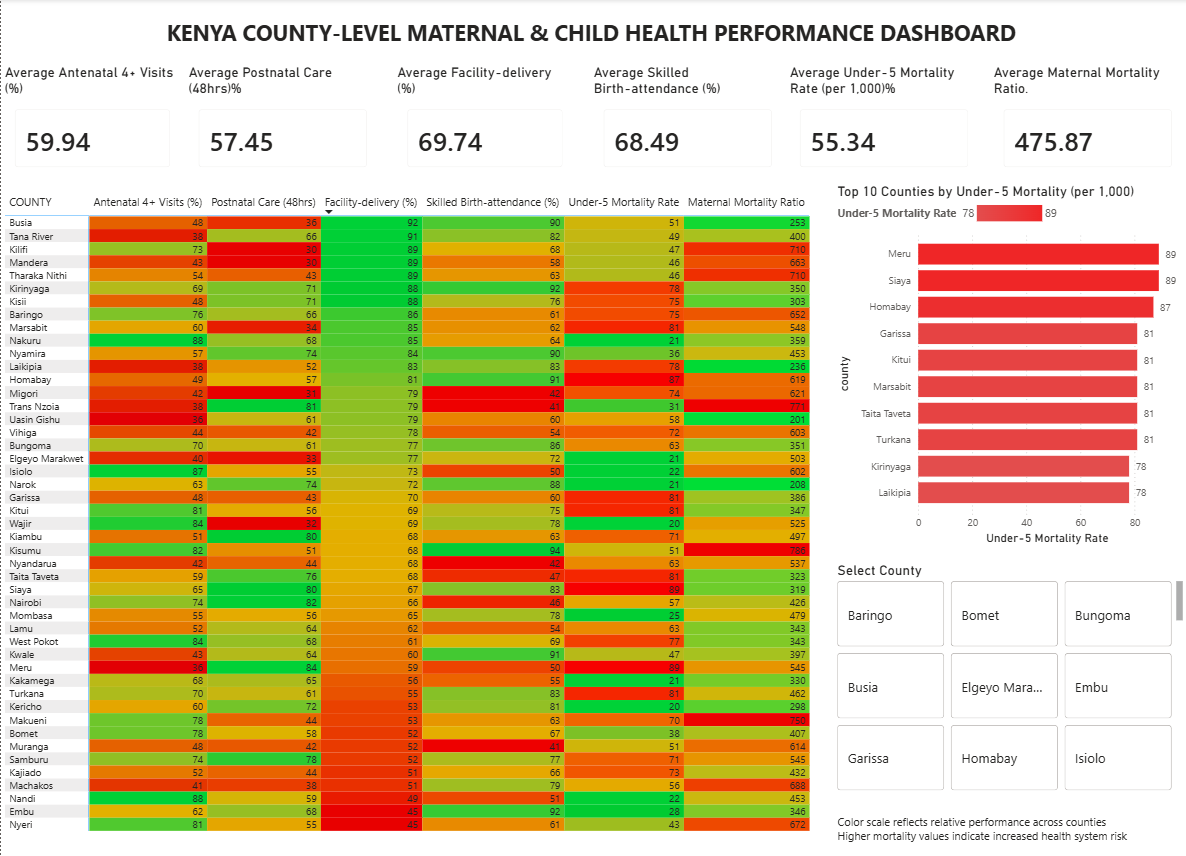

The dashboard page shown, as its layout file describes it:
{"tool":"powerbi","page":{"name":"MCH County Dashboard","canvas":[1450,1050],"ordinal":0},"visuals":[{"type":"pivotTable","fields":{"Rows":["mch_county_cleaned.county"],"Values":["Sum(mch_county_cleaned.antenatal_4_visits_pct)","Sum(mch_county_cleaned.postnatal_care_48_hours)","Sum(mch_county_cleaned.facility_delivery_pct)","Sum(mch_county_cleaned.skilled_birth_attendance_pct)","Sum(mch_county_cleaned.under_5_mortality_rate)","Sum(mch_county_cleaned.maternal_mortality_ratio)"]},"box":[0,234,1008,816],"z":0},{"type":"cardVisual","title":"Average Antenatal 4+ Visits (%)","fields":{"Data":["Avg(mch_county_cleaned.antenatal_4_visits_pct)"]},"box":[0,80,224,144],"z":1},{"type":"cardVisual","title":"Average Postnatal Care (48hrs)%","fields":{"Data":["Avg(mch_county_cleaned.postnatal_care_48_hours)"]},"box":[224,80,240,144],"z":2},{"type":"cardVisual","title":"Average Facility-delivery (%)","fields":{"Data":["Avg(mch_county_cleaned.facility_delivery_pct)"]},"box":[480,80,224,144],"z":3},{"type":"cardVisual","title":"Average Skilled Birth-attendance (%)","fields":{"Data":["Avg(mch_county_cleaned.skilled_birth_attendance_pct)"]},"box":[720,80,240,144],"z":4},{"type":"cardVisual","title":"Average Under-5 Mortality Rate (per 1,000)%","fields":{"Data":["Avg(mch_county_cleaned.under_5_mortality_rate)"]},"box":[960,80,240,144],"z":5},{"type":"cardVisual","title":"Average Maternal Mortality Ratio.","fields":{"Data":["Avg(mch_county_cleaned.maternal_mortality_ratio)"]},"box":[1210,80,240,144],"z":6},{"type":"textbox","box":[1008,736,192,64],"z":7},{"type":"textbox","box":[-6,0,1456,80],"z":8},{"type":"clusteredBarChart","title":"Top 10 Counties by Under-5 Mortality (per 1,000)","fields":{"Category":["mch_county_cleaned.county"],"Y":["Sum(mch_county_cleaned.under_5_mortality_rate)"]},"box":[1018,224,432,448],"z":9},{"type":"advancedSlicerVisual","title":"Select County","fields":{"Values":["mch_county_cleaned.county"]},"box":[1018,688,432,288],"z":10},{"type":"textbox","box":[1018,992,432,48],"z":11}]}

Visuals, with their boxes in screenshot pixels (x1, y1, x2, y2), scaled from the page's 1450x1050 canvas onto the 1186x856 screenshot:
pivotTable - mch_county_cleaned.county x Sum(mch_county_cleaned.antenatal_4_visits_pct): (0,191,824,855)
"Average Antenatal 4+ Visits (%)" cardVisual: (0,65,183,183)
"Average Postnatal Care (48hrs)%" cardVisual: (183,65,380,183)
"Average Facility-delivery (%)" cardVisual: (393,65,576,183)
"Average Skilled Birth-attendance (%)" cardVisual: (589,65,785,183)
"Average Under-5 Mortality Rate (per 1,000)%" cardVisual: (785,65,982,183)
"Average Maternal Mortality Ratio." cardVisual: (990,65,1185,183)
textbox: (824,600,982,652)
textbox: (0,0,1185,65)
"Top 10 Counties by Under-5 Mortality (per 1,000)" clusteredBarChart: (833,183,1185,548)
"Select County" advancedSlicerVisual: (833,561,1185,796)
textbox: (833,809,1185,848)
